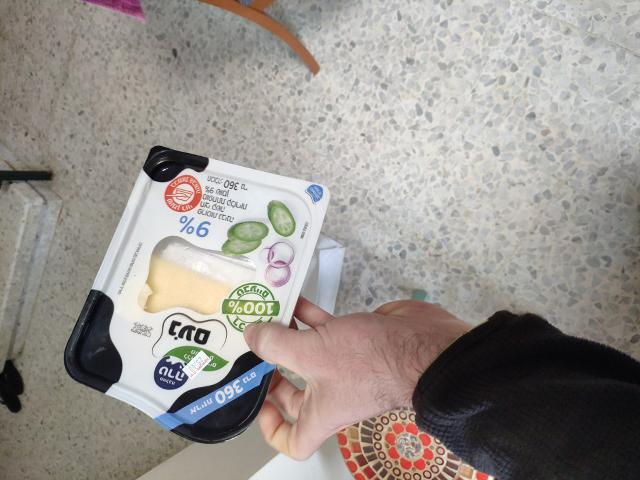cheese: (82, 146, 284, 452)
